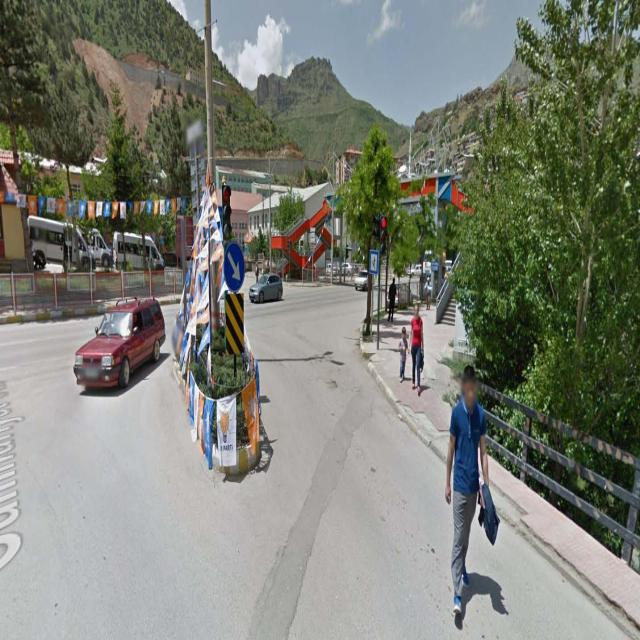kirmizi: (223, 185, 231, 238), (381, 215, 387, 253)
